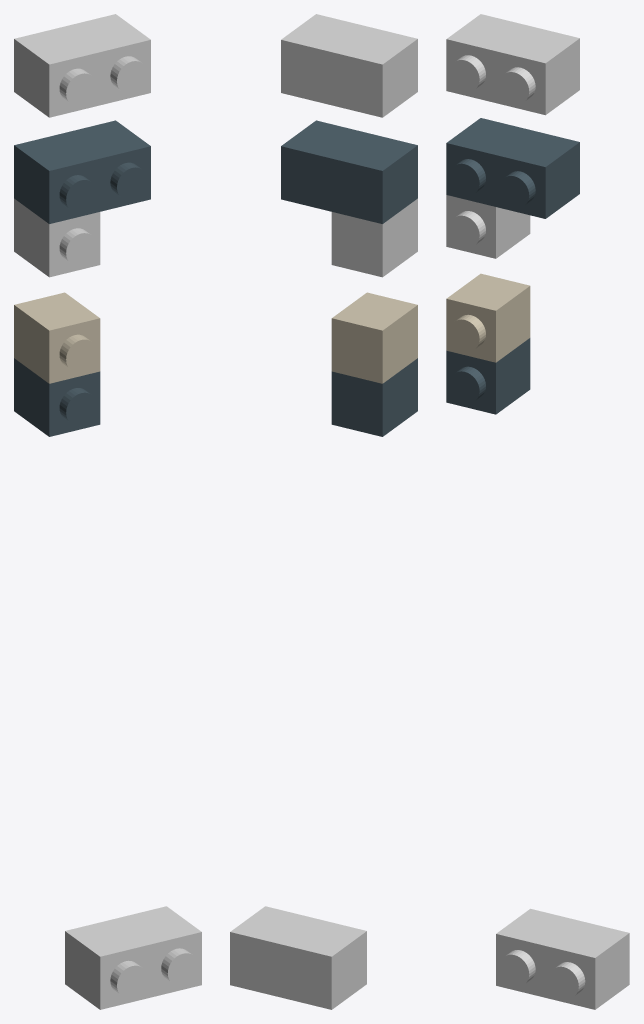
The model's file is current.glb.
3 views of the same model, side by side, from view 1: azimuth 30°, elevation 25°; view 2: azimuth 150°, elevation 25°; view 3: azimuth 330°, elevation 25° (orthographic). The views are drawn at different scales.
Parts seen in each view (by area): view 1: world; view 2: world; view 3: world.
Boxes of the visible parts, bbox=[...] form: world: bbox=[14, 14, 201, 1009]; world: bbox=[230, 14, 417, 1009]; world: bbox=[446, 14, 629, 1009].
Bounding box in the file's own units: 24 × 144 × 11.4.
